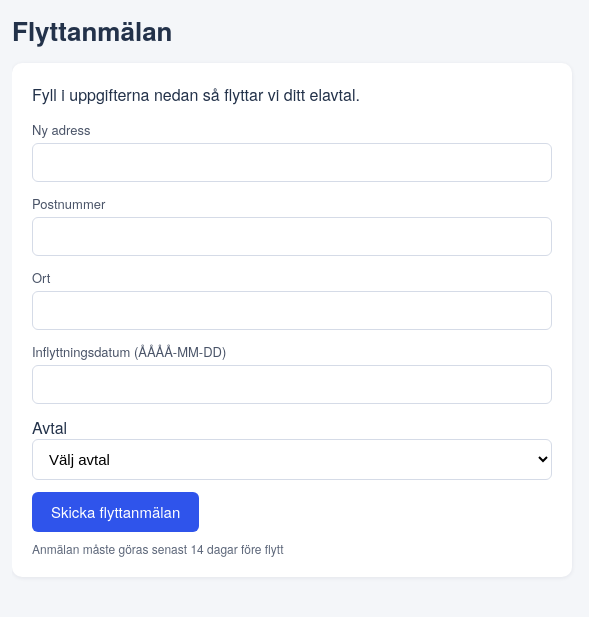
Test: MoveFormView › shows an error that does not belong to a field and does not submit
Click the button "Skicka flyttanmälan". click: (116, 512)
box: [32,492,199,532]
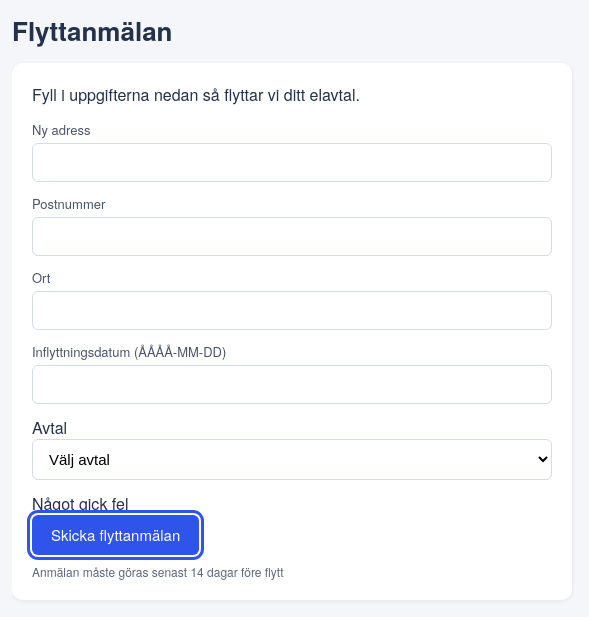
expect the message reads "Något gick fel": met, box [32,492,128,515]
